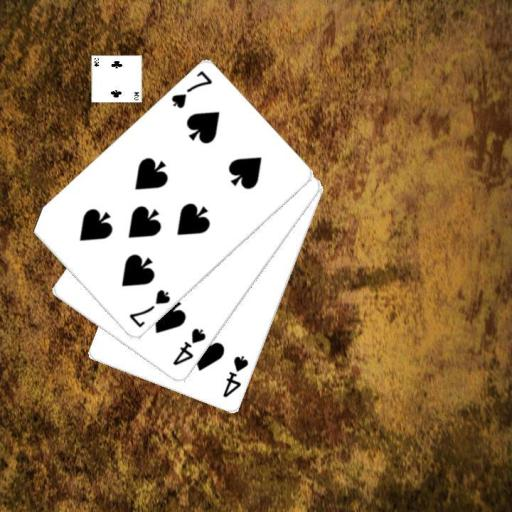4S: (169, 325, 208, 368), (220, 353, 250, 400)
7S: (168, 67, 214, 111), (126, 287, 172, 330)
